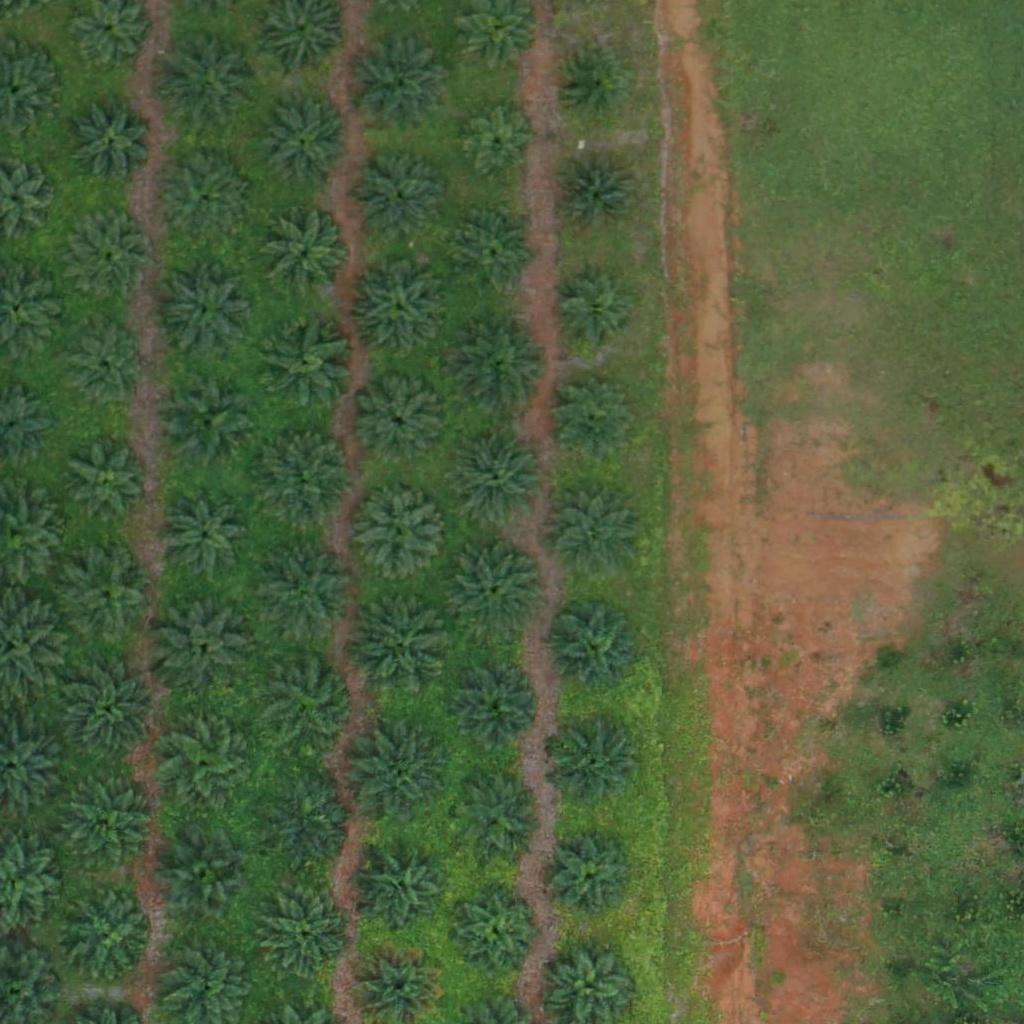Kelapa_Sawit: (345, 36, 445, 137), (59, 771, 159, 872), (159, 370, 259, 471), (254, 423, 354, 524), (259, 544, 359, 645), (350, 483, 450, 584), (349, 594, 449, 695), (350, 727, 450, 828), (452, 428, 552, 529), (445, 539, 545, 640), (544, 598, 644, 699), (448, 317, 548, 417), (348, 256, 448, 356), (254, 313, 354, 413), (159, 33, 259, 133), (154, 260, 254, 360), (55, 544, 155, 644), (153, 592, 253, 692), (262, 653, 362, 753), (261, 773, 361, 873), (356, 379, 444, 468), (550, 272, 638, 360), (453, 209, 541, 297), (354, 153, 442, 241), (161, 493, 249, 581), (160, 715, 248, 803), (163, 834, 251, 922), (450, 663, 538, 751), (552, 719, 640, 807), (548, 833, 636, 921), (263, 890, 351, 978), (554, 153, 641, 241), (259, 101, 346, 189), (262, 212, 349, 300), (162, 161, 249, 249), (67, 664, 154, 752), (454, 775, 541, 863), (550, 373, 637, 461), (550, 488, 637, 576), (359, 847, 446, 935), (451, 886, 538, 974), (63, 893, 150, 981), (76, 107, 151, 183), (74, 218, 149, 294), (71, 441, 146, 517), (462, 107, 537, 182), (66, 333, 141, 408), (559, 51, 622, 114)
